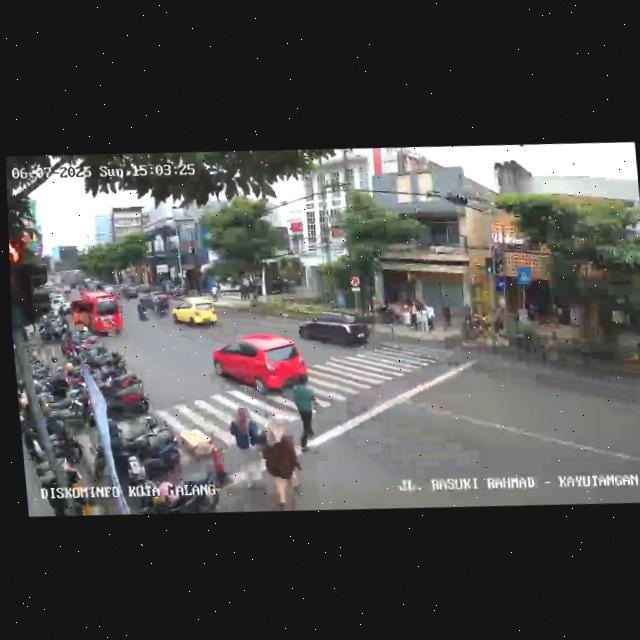car: (210, 331, 313, 404), (296, 305, 372, 354), (68, 291, 124, 341), (170, 296, 219, 331), (148, 292, 172, 317), (121, 281, 142, 299)
motorcycle: (135, 294, 153, 324)
person: (259, 410, 304, 511), (194, 430, 231, 510), (291, 374, 324, 455), (228, 400, 257, 473), (424, 302, 436, 333), (410, 301, 420, 332), (419, 305, 429, 332), (402, 304, 411, 328)
